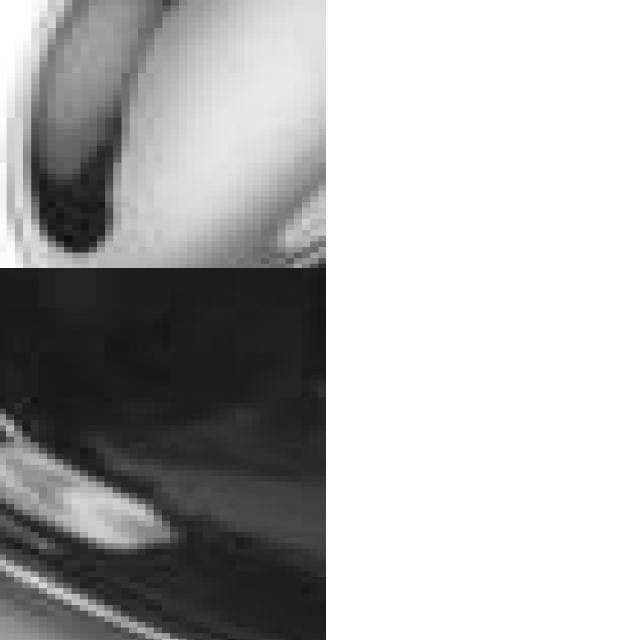spoons: (0, 268, 326, 640), (0, 0, 326, 268)
